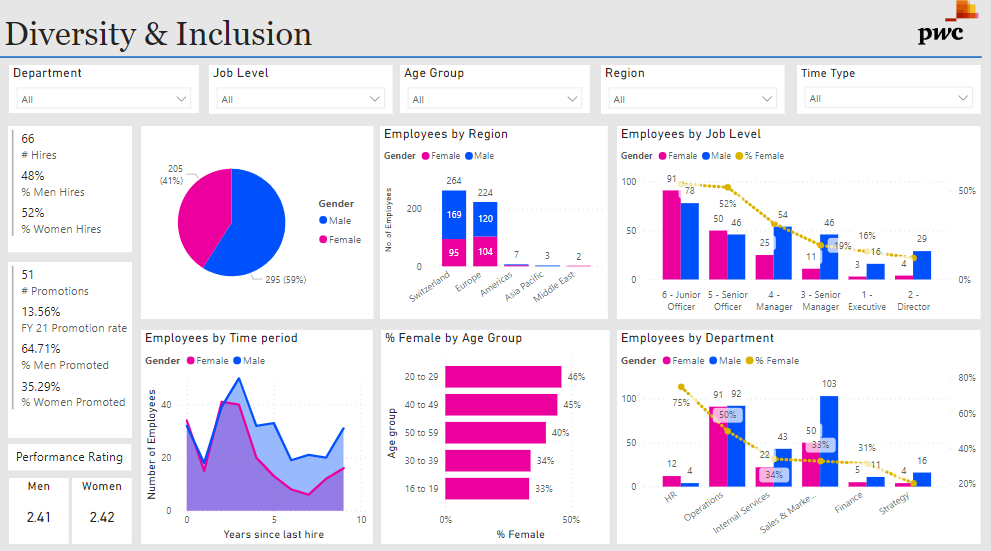

The dashboard page shown, as its layout file describes it:
{"tool":"powerbi","page":{"name":"Overall Analysis","canvas":[1280,720],"ordinal":0},"visuals":[{"type":"textbox","box":[0,20.8,1266.7,69.7],"z":0},{"type":"pieChart","fields":{"Y":["CountNonNull(Pharma Group AG.Employee ID)"],"Category":["Pharma Group AG.Gender"]},"box":[182.4,169.1,300,249.1],"z":0,"group":"g1"},{"type":"textbox","box":[10.4,579.9,158.7,34.1],"z":0,"group":"g3"},{"type":"slicer","title":"Department","fields":{"Values":["Pharma Group AG.Last Department in FY20"]},"box":[11.3,90.7,245.2,62.4],"z":1000},{"type":"areaChart","title":"Employees by Time period","fields":{"Y":["CountNonNull(Pharma Group AG.Employee ID)"],"Category":["Pharma Group AG.Years since last hire"],"Series":["Pharma Group AG.Gender"]},"box":[182.4,432.6,298.8,276.4],"z":1000,"group":"g1"},{"type":"card","title":"Men","fields":{"Values":["Pharma Group AG.Avg Rating of Men"]},"box":[11.1,624.4,77.1,84.5],"z":1000,"group":"g3"},{"type":"slicer","title":"Region","fields":{"Values":["Pharma Group AG.Region group: nationality 1"]},"box":[775.2,90.3,237,63.3],"z":2000},{"type":"barChart","title":"% Female by Age Group","fields":{"Category":["Pharma Group AG.Age group"],"Y":["Pharma Group AG.% Female"]},"box":[491.4,432.9,294.6,276],"z":2000,"group":"g1"},{"type":"card","title":"Women","fields":{"Values":["Pharma Group AG.Avg Rating of Women"]},"box":[93.5,624.4,77.1,84.5],"z":2000,"group":"g3"},{"type":"slicer","title":"Age Group","fields":{"Values":["Pharma Group AG.Age group"]},"box":[515.9,90.7,245.2,62.4],"z":3000},{"type":"columnChart","title":"Employees by Region","fields":{"Y":["CountNonNull(Pharma Group AG.Employee ID)"],"Category":["Pharma Group AG.Region group: nationality 1"],"Series":["Pharma Group AG.Gender"]},"box":[491.3,169.1,294.1,249.1],"z":3000,"group":"g1"},{"type":"slicer","title":"Job Level","fields":{"Values":["Pharma Group AG.Job Level after FY20 promotions"]},"box":[269.3,90.3,236.8,63.1],"z":4000},{"type":"shape","box":[0,69.7,1266.7,20.8],"z":5000},{"type":"image","box":[1166.5,0,113.4,69.4],"z":6000},{"type":"slicer","title":"Time Type","fields":{"Values":["Pharma Group AG.Time type"]},"box":[1028.2,90.3,237,63.3],"z":7000},{"type":"group","id":"g1","title":"Group 1","box":[182.4,169.1,603.7,539.9],"z":8000},{"type":"group","id":"g2","title":"Group 2","box":[796.5,169.1,468.7,539.9],"z":9000},{"type":"lineClusteredColumnComboChart","title":"Employees by Job Level","fields":{"Category":["Pharma Group AG.Job Level after FY21 promotions"],"Y":["CountNonNull(Pharma Group AG.Employee ID)"],"Y2":["Pharma Group AG.% Female"],"Series":["Pharma Group AG.Gender"]},"box":[796.5,169.1,468.7,249.1],"z":9000,"group":"g2"},{"type":"lineClusteredColumnComboChart","title":"Employees by Department","fields":{"Y":["CountNonNull(Pharma Group AG.Employee ID)"],"Y2":["Pharma Group AG.% Female"],"Series":["Pharma Group AG.Gender"],"Category":["Pharma Group AG.Department @01.07.2020"]},"box":[796.5,432.6,468.7,276.4],"z":10000,"group":"g2"},{"type":"group","id":"g3","title":"Group 3","box":[10.4,579.9,160.2,129],"z":10000},{"type":"multiRowCard","fields":{"Values":["Pharma Group AG.# Hires","Pharma Group AG.% Men Hires","Pharma Group AG.% Women Hires"]},"box":[10.4,169.1,160.2,163.2],"z":11000},{"type":"multiRowCard","fields":{"Values":["Pharma Group AG.# Employees promoted in FY21","Pharma Group AG.% Employees promoted in FY21","Pharma Group AG.% Men Promoted","Pharma Group AG.% Women Promoted"]},"box":[10.4,344.1,160.2,226.9],"z":12000}]}

Visuals, with their boxes in screenshot pixels (x1, y1, x2, y2), scaled from the page's 1280x720 canvas onto the 991x551 screenshot:
textbox: [left=0, top=16, right=981, bottom=69]
pieChart - CountNonNull(Pharma Group AG.Employee ID) x Pharma Group AG.Gender: [left=141, top=129, right=373, bottom=320]
textbox: [left=8, top=444, right=131, bottom=470]
"Department" slicer: [left=9, top=69, right=199, bottom=117]
"Employees by Time period" areaChart: [left=141, top=331, right=373, bottom=543]
"Men" card: [left=9, top=478, right=68, bottom=543]
"Region" slicer: [left=600, top=69, right=784, bottom=118]
"% Female by Age Group" barChart: [left=380, top=331, right=609, bottom=543]
"Women" card: [left=72, top=478, right=132, bottom=543]
"Age Group" slicer: [left=399, top=69, right=589, bottom=117]
"Employees by Region" columnChart: [left=380, top=129, right=608, bottom=320]
"Job Level" slicer: [left=208, top=69, right=392, bottom=117]
shape: [left=0, top=53, right=981, bottom=69]
image: [left=903, top=0, right=990, bottom=53]
"Time Type" slicer: [left=796, top=69, right=980, bottom=118]
"Group 1" group: [left=141, top=129, right=609, bottom=543]
"Group 2" group: [left=617, top=129, right=980, bottom=543]
"Employees by Job Level" lineClusteredColumnComboChart: [left=617, top=129, right=980, bottom=320]
"Employees by Department" lineClusteredColumnComboChart: [left=617, top=331, right=980, bottom=543]
"Group 3" group: [left=8, top=444, right=132, bottom=543]
multiRowCard - Pharma Group AG.# Hires x Pharma Group AG.% Men Hires: [left=8, top=129, right=132, bottom=254]
multiRowCard - Pharma Group AG.# Employees promoted in FY21 x Pharma Group AG.% Employees promoted in FY21: [left=8, top=263, right=132, bottom=437]
